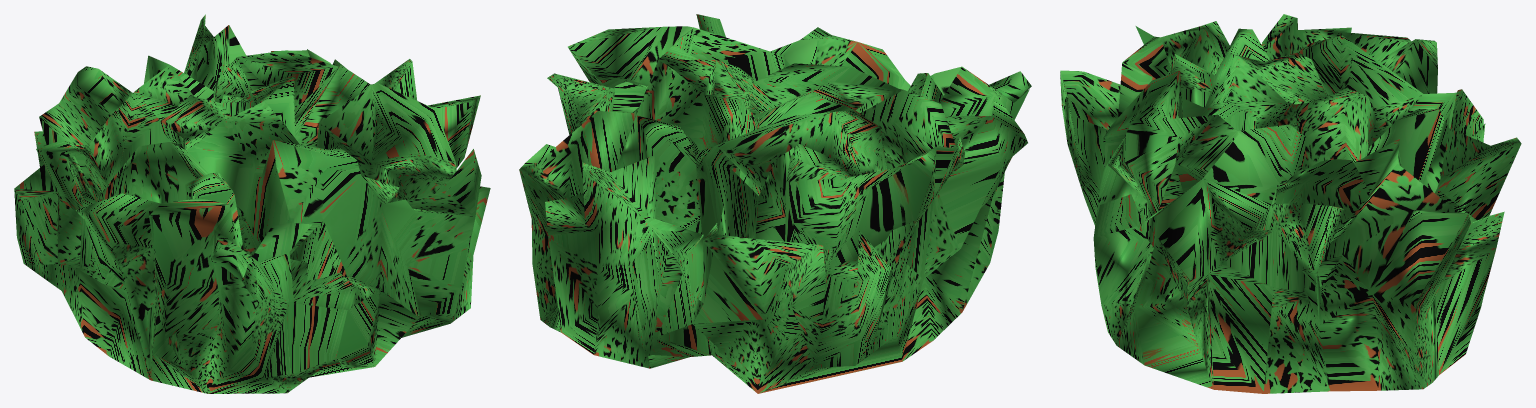
File: tall_grass.glb
The picture shows the model from 3 angles, left to right: view 1: azimuth 30°, elevation 25°; view 2: azimuth 150°, elevation 25°; view 3: azimuth 270°, elevation 25°; orthographic projection. The views are drawn at different scales.
Parts seen in each view (by area): view 1: output_unwrapped; view 2: output_unwrapped; view 3: output_unwrapped.
Boxes of the visible parts, <box> form: output_unwrapped: <box>14,14,490,393</box>; output_unwrapped: <box>519,14,1031,393</box>; output_unwrapped: <box>1060,14,1521,393</box>.
Bounding box in the file's own units: 1.87 × 0.9783 × 1.73.
1 material, 1 textured.
